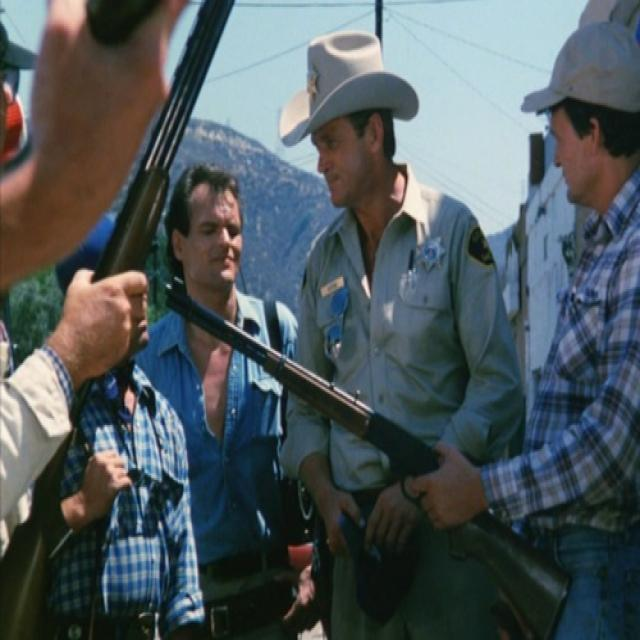rifle: (162, 276, 575, 640), (1, 1, 234, 640)
